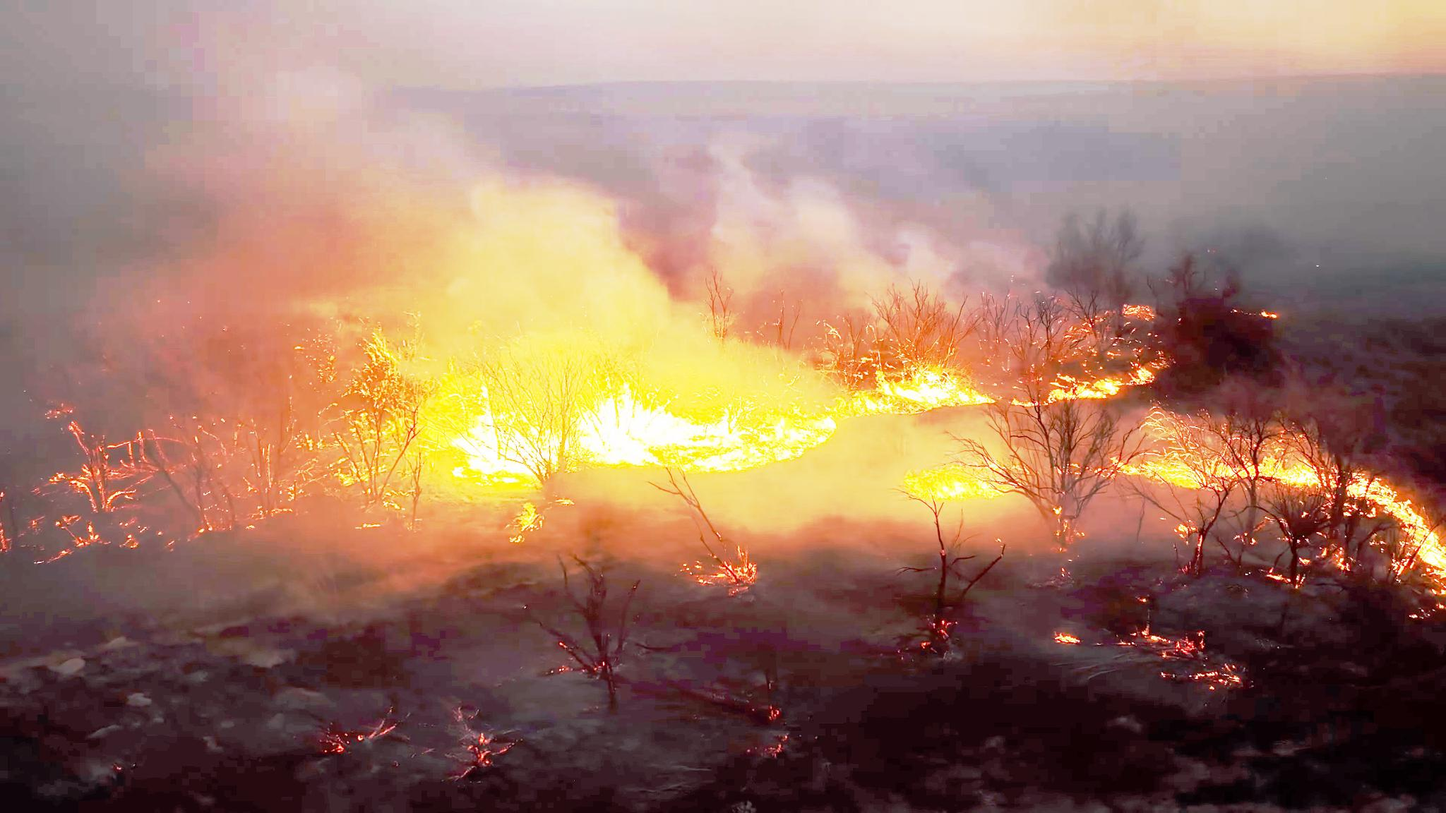fire: (426, 390, 698, 492), (668, 377, 846, 493), (1116, 432, 1370, 504), (855, 353, 983, 431)
smoke: (0, 0, 672, 344)
